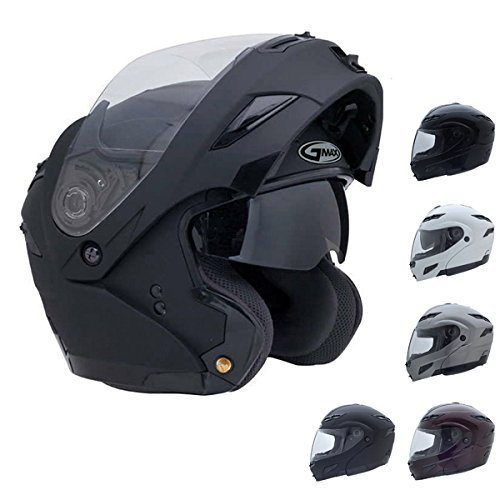with_helmet: (17, 27, 388, 399), (400, 198, 498, 286), (403, 297, 496, 386), (408, 100, 496, 189), (404, 401, 500, 482), (307, 401, 397, 483)
